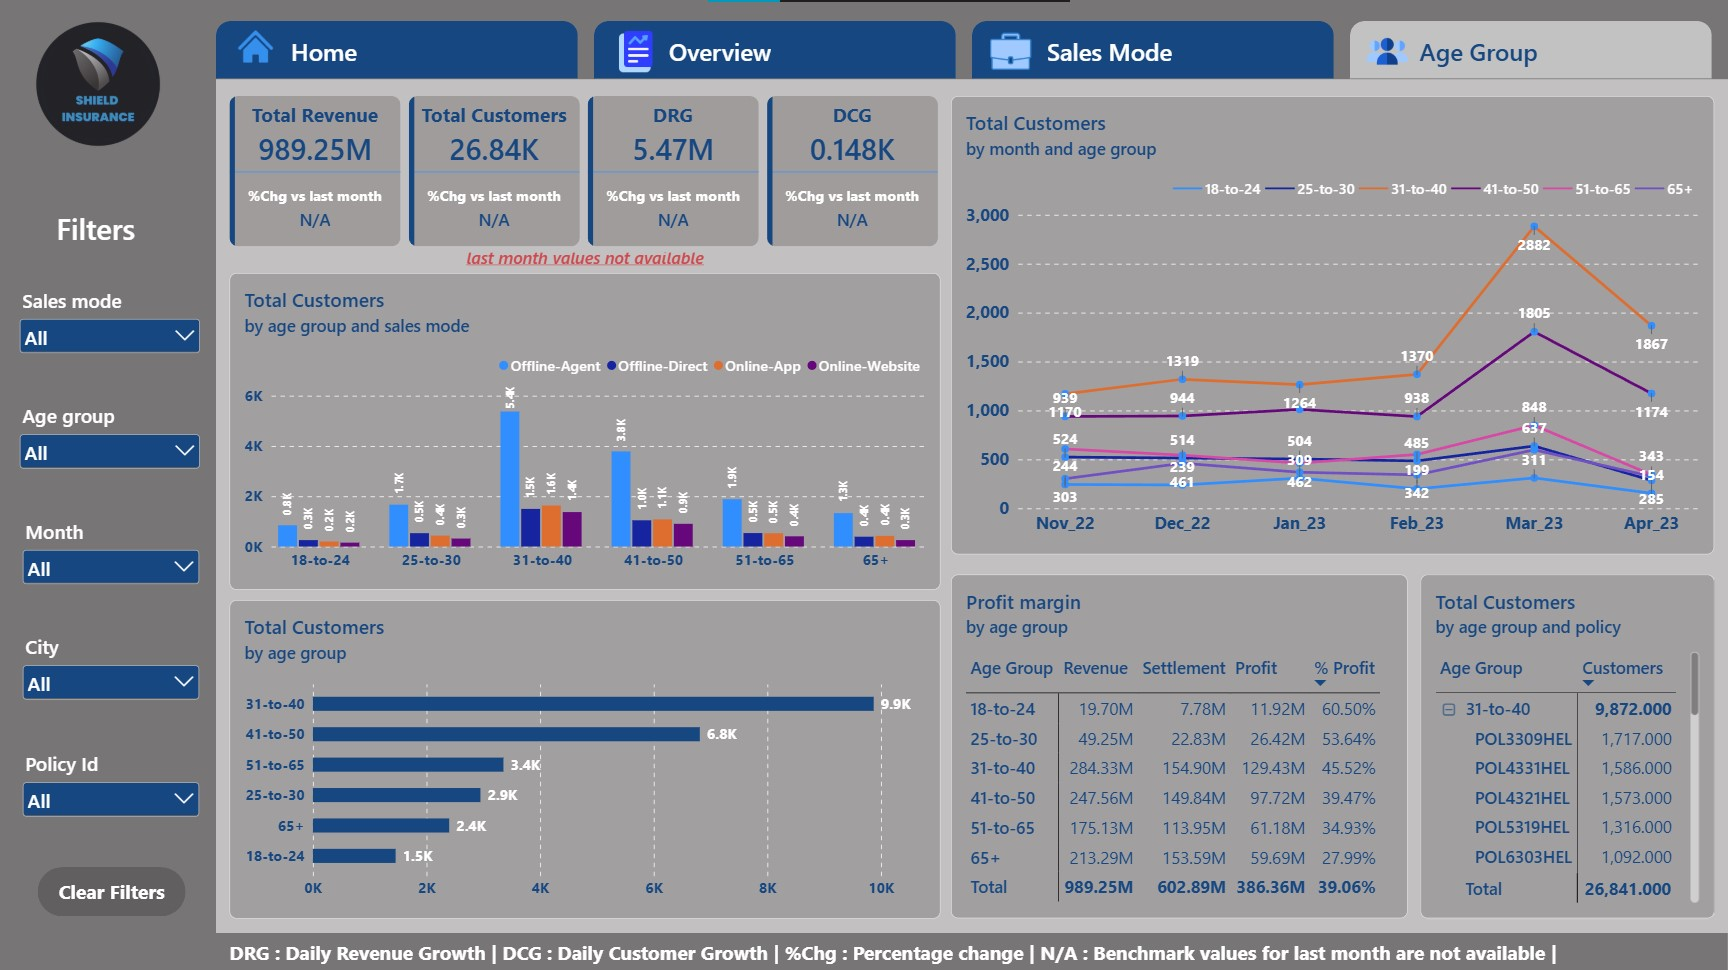

This screenshot's page, from the dashboard's own definition file:
{"tool":"powerbi","page":{"name":" Age Group","canvas":[1920,1080],"ordinal":3},"visuals":[{"type":"shape","box":[0,0,240,1080],"z":0},{"type":"slicer","fields":{"Values":["fact_premiums.sales_mode"]},"box":[16,318.8,210,84],"z":1000},{"type":"slicer","fields":{"Values":["dim_age_group.age_group"]},"box":[16,447.1,210,84],"z":2000},{"type":"slicer","fields":{"Values":["dim_customer.city"]},"box":[20,703.5,206,86],"z":3000},{"type":"slicer","fields":{"Values":["dim_date.mmm_yy"]},"box":[20,575.3,206,84],"z":4000},{"type":"slicer","fields":{"Values":["dim_policies.policy_id"]},"box":[20,833.8,206,86],"z":5000},{"type":"image","box":[33.3,17.7,151,150],"z":6000},{"type":"shape","box":[240,0,1680,88],"z":7000},{"type":"pageNavigator","box":[240,24,1664,64],"z":8000},{"type":"actionButton","box":[42,964,164.7,54.9],"z":9000},{"type":"textbox","box":[58.8,231.4,96.1,43.1],"z":10000},{"type":"cardVisual","fields":{"Data":["key_measures.total_revenue","key_measures.total_customers","key_measures.DRG","key_measures.DCG"]},"box":[254.7,107.5,790.1,167.2],"z":11000},{"type":"shape","box":[240.8,1036.9,1679.7,43.8],"z":12000},{"type":"card","fields":{"Values":["key_measures.BM message"]},"box":[254.7,262.7,790.1,43.8],"z":13000},{"type":"lineChart","title":"Total Customers","fields":{"Category":["dim_date.mmm_yy"],"Series":["dim_age_group.age_group"],"Y":["key_measures.total_customers"]},"box":[1056.8,107.5,847.8,509.5],"z":15000},{"type":"pivotTable","title":"Total Customers","fields":{"Rows":["dim_age_group.age_group","dim_policies.policy_id"],"Values":["key_measures.total_customers"]},"box":[1578.2,638.9,326.4,382.1],"z":16000},{"type":"pivotTable","title":"Profit margin","fields":{"Rows":["dim_age_group.age_group"],"Values":["key_measures.total_revenue","key_measures.expected_settlements","key_measures.profit_margin","key_measures.% profit margin"]},"box":[1056.8,638.9,507.5,382],"z":17000},{"type":"clusteredBarChart","title":"Total Customers","fields":{"Category":["dim_age_group.age_group"],"Y":["key_measures.total_customers"]},"box":[254.7,666.7,790.1,354.3],"z":18000},{"type":"clusteredColumnChart","title":"Total Customers","fields":{"Category":["dim_age_group.age_group"],"Series":["fact_premiums.sales_mode"],"Y":["key_measures.total_customers"]},"box":[254.7,303,790.1,352.3],"z":19000},{"type":"image","box":[1518.5,29.9,45.8,53.7],"z":20000},{"type":"image","box":[1100.6,29.9,45.8,53.7],"z":21000},{"type":"image","box":[682.6,27.9,45.8,57.7],"z":22000},{"type":"image","box":[254.7,19.9,57.7,63.7],"z":23000},{"type":"textbox","box":[254.7,1042.9,1649.9,29.9],"z":24000}]}

Visuals, with their boxes in screenshot pixels (x1, y1, x2, y2), scaled from the page's 1920x1080 canvas onto the 1728x970 screenshot:
shape: crop(0, 0, 216, 969)
slicer - fact_premiums.sales_mode: crop(14, 286, 203, 362)
slicer - dim_age_group.age_group: crop(14, 402, 203, 477)
slicer - dim_customer.city: crop(18, 632, 203, 709)
slicer - dim_date.mmm_yy: crop(18, 517, 203, 592)
slicer - dim_policies.policy_id: crop(18, 749, 203, 826)
image: crop(30, 16, 166, 151)
shape: crop(216, 0, 1727, 79)
pageNavigator: crop(216, 22, 1714, 79)
actionButton: crop(38, 866, 186, 915)
textbox: crop(53, 208, 139, 247)
cardVisual - key_measures.total_revenue x key_measures.total_customers: crop(229, 97, 940, 247)
shape: crop(217, 931, 1727, 969)
card - key_measures.BM message: crop(229, 236, 940, 275)
"Total Customers" lineChart: crop(951, 97, 1714, 554)
"Total Customers" pivotTable: crop(1420, 574, 1714, 917)
"Profit margin" pivotTable: crop(951, 574, 1408, 917)
"Total Customers" clusteredBarChart: crop(229, 599, 940, 917)
"Total Customers" clusteredColumnChart: crop(229, 272, 940, 589)
image: crop(1367, 27, 1408, 75)
image: crop(991, 27, 1032, 75)
image: crop(614, 25, 656, 77)
image: crop(229, 18, 281, 75)
textbox: crop(229, 937, 1714, 964)
